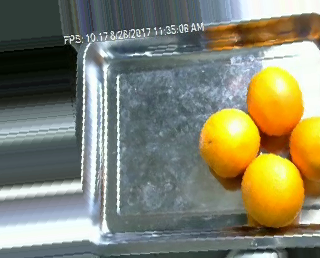Orange: (241, 152, 305, 227), (199, 108, 261, 178), (247, 68, 305, 136)
